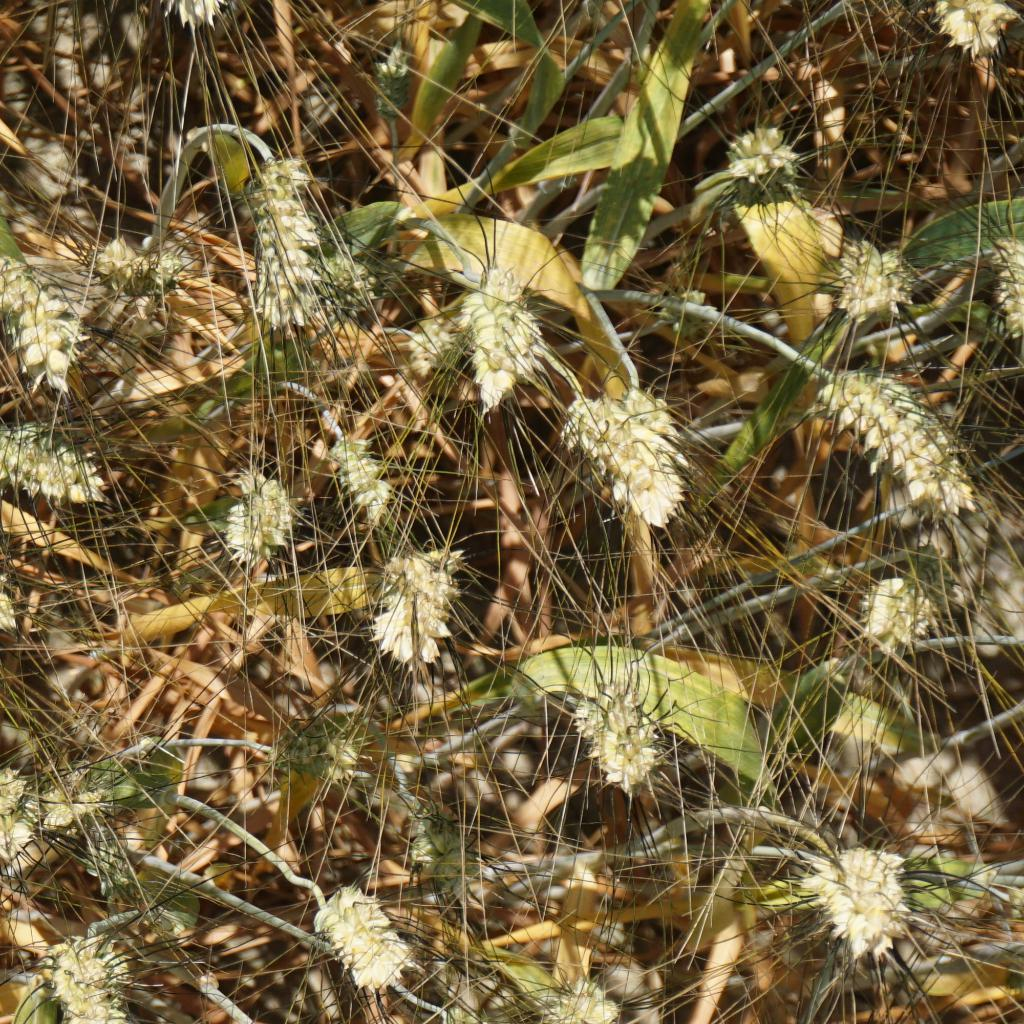0-0: (796, 352, 986, 534), (442, 254, 546, 410), (368, 538, 485, 675), (232, 156, 323, 331), (559, 666, 675, 801), (801, 843, 911, 964), (0, 247, 81, 396), (603, 384, 687, 522), (0, 416, 111, 510), (316, 884, 419, 983), (221, 466, 304, 575), (47, 926, 137, 1024), (552, 374, 631, 484), (396, 796, 487, 890), (833, 235, 916, 323), (266, 712, 370, 782), (730, 113, 806, 203), (857, 571, 937, 654), (328, 435, 398, 519), (645, 280, 727, 342), (312, 250, 385, 314), (987, 231, 1024, 352), (944, 0, 1017, 58), (531, 975, 617, 1024), (38, 766, 108, 826), (362, 46, 413, 122), (78, 827, 139, 890), (0, 756, 34, 863), (0, 529, 26, 643), (128, 247, 186, 297), (91, 235, 138, 296), (436, 1001, 527, 1024)
